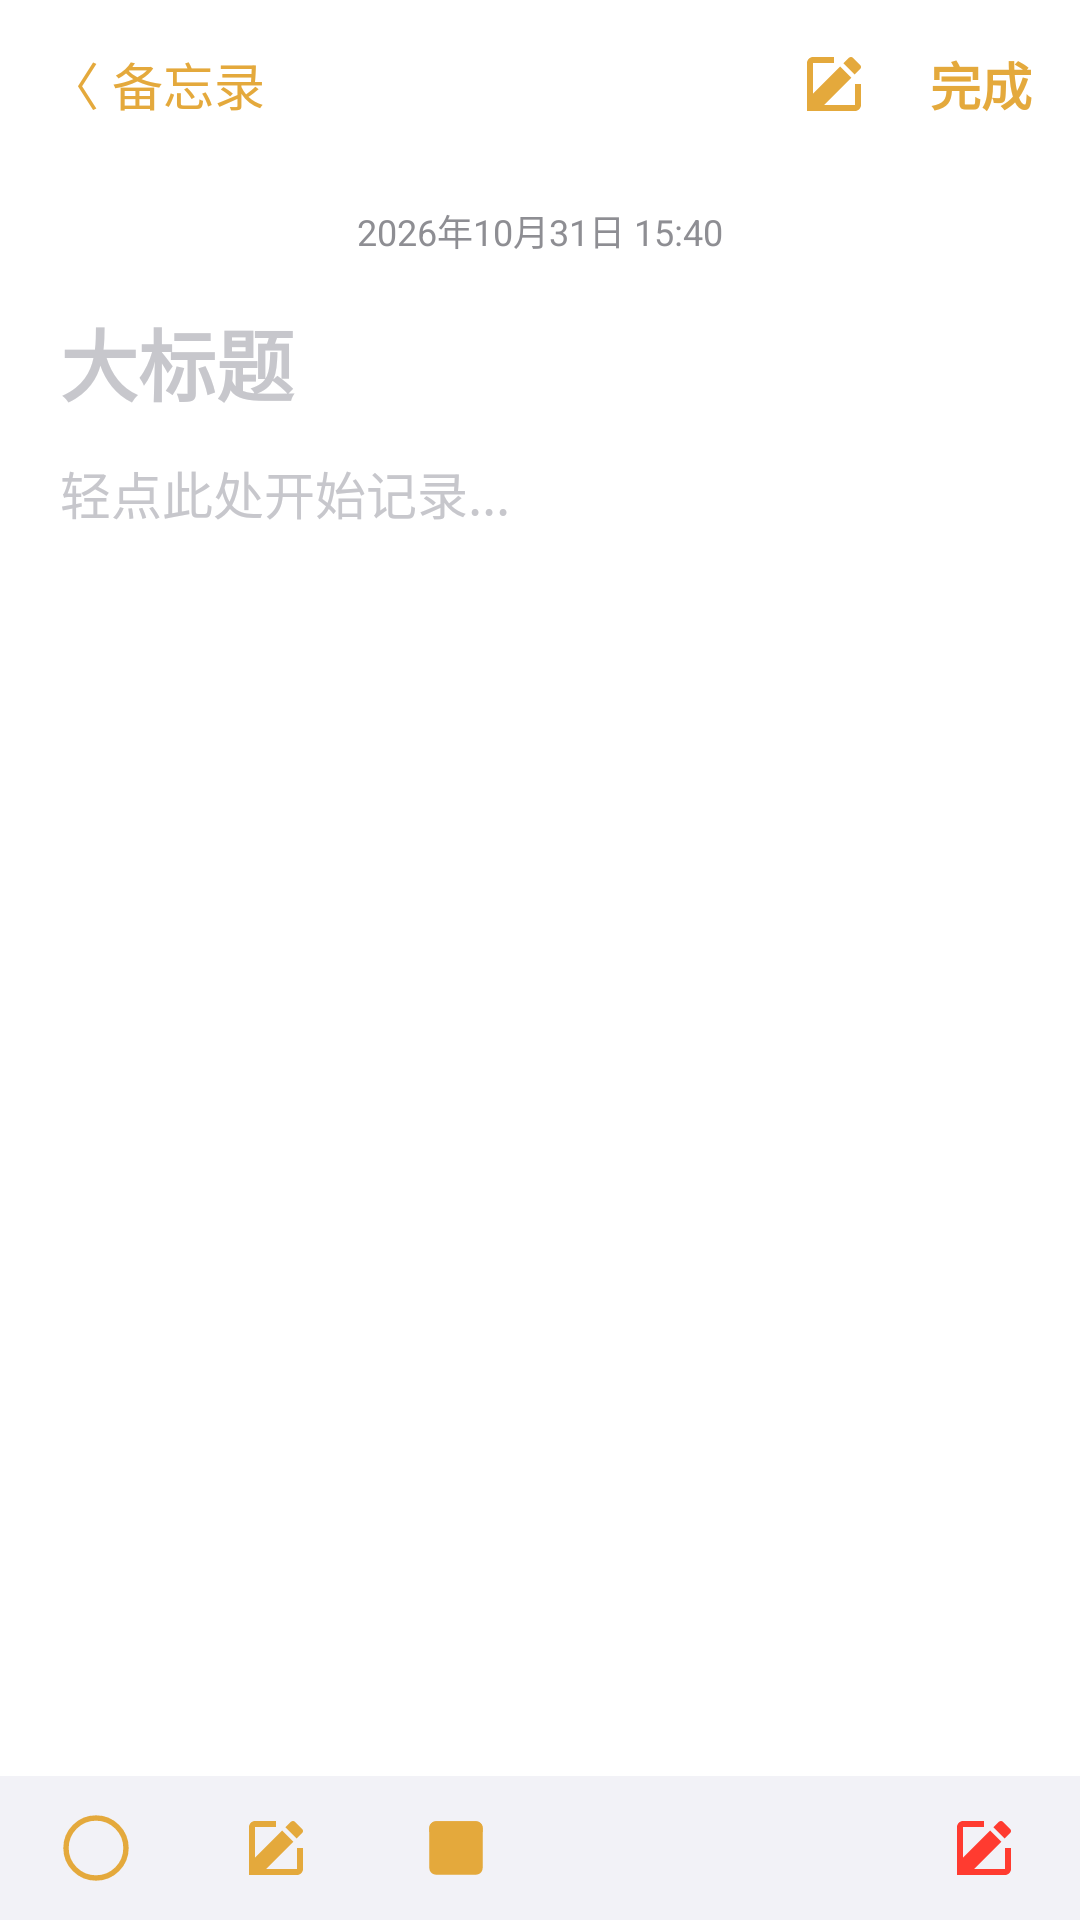

Named icons in this screenshot (1080px x 1920px) and their bounding boxes, (x1, y1, x2, y2):
pencil square: (807, 57, 861, 111), (249, 1821, 303, 1875), (957, 1821, 1011, 1875)
